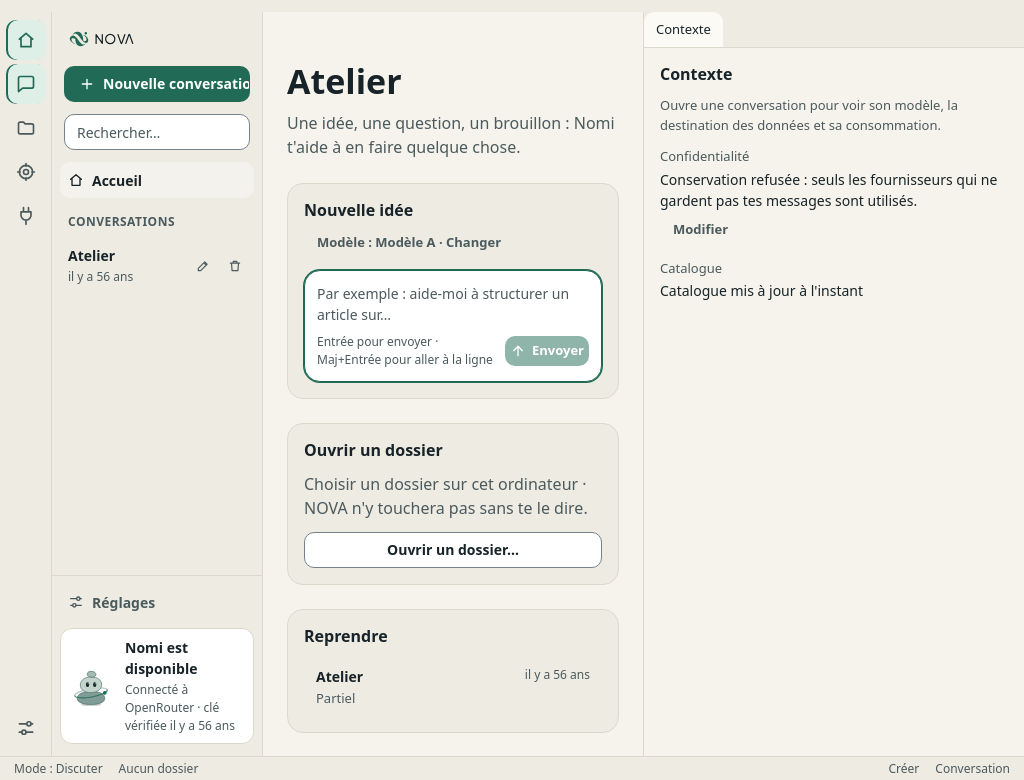
Test: new provider outcomes › empty_response has French copy and its follow-up
Click the button "Atelier il y a 56 ans": (124, 266) [60,237,188,294]
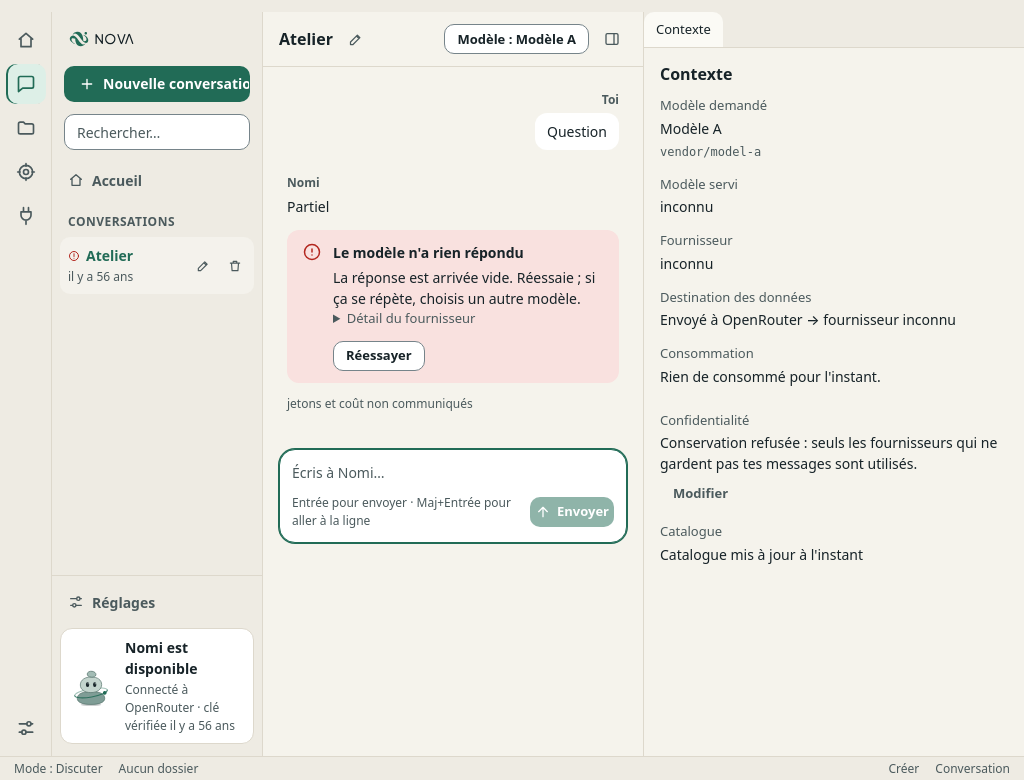
Result: the text "Le modèle n'a rien répondu" is shown at [333,243,524,262]
Result: the button "Réessayer" is shown at [333,341,425,371]
